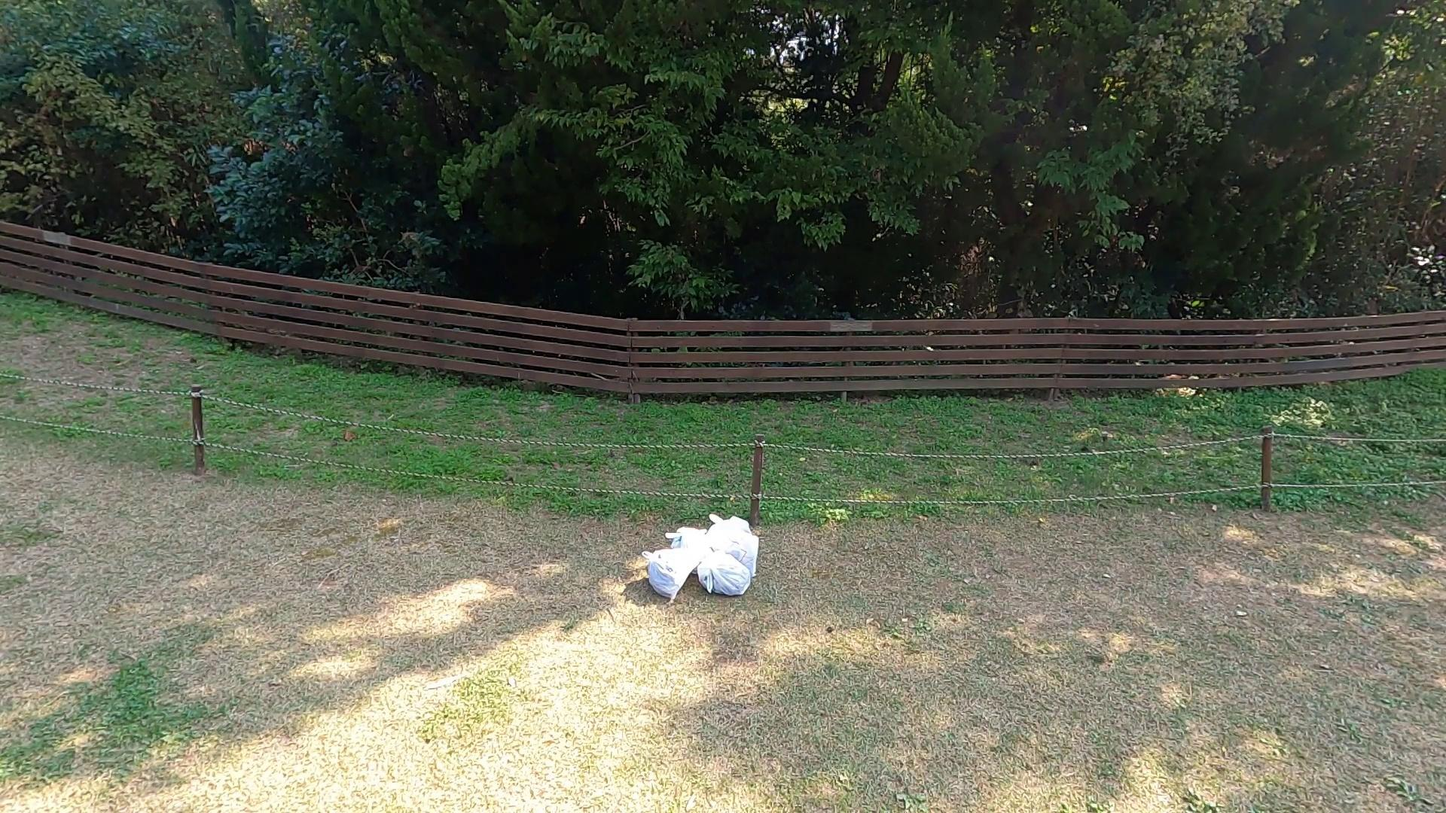trash: (642, 545, 710, 599), (705, 511, 757, 572), (702, 548, 749, 597), (664, 526, 707, 555)
